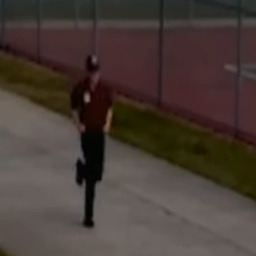person: (71, 54, 113, 228)
